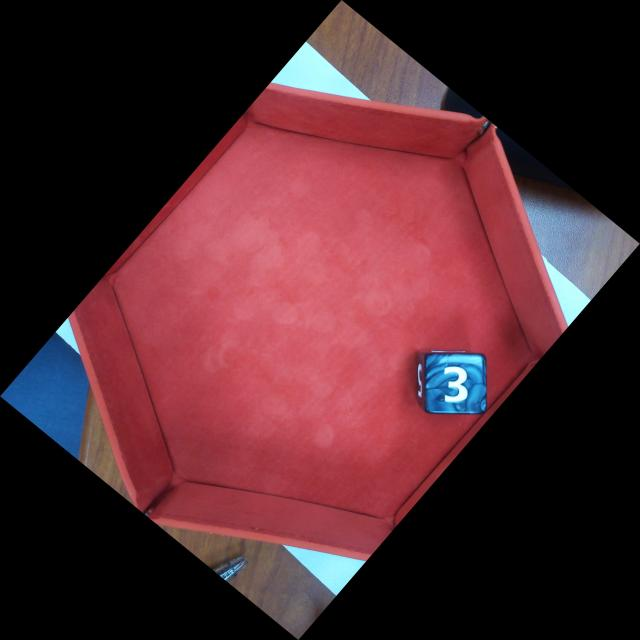dice: (422, 352, 489, 414)
